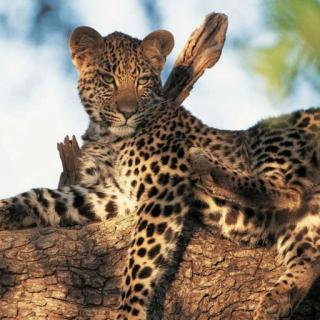Leopard: (2, 27, 320, 282)
